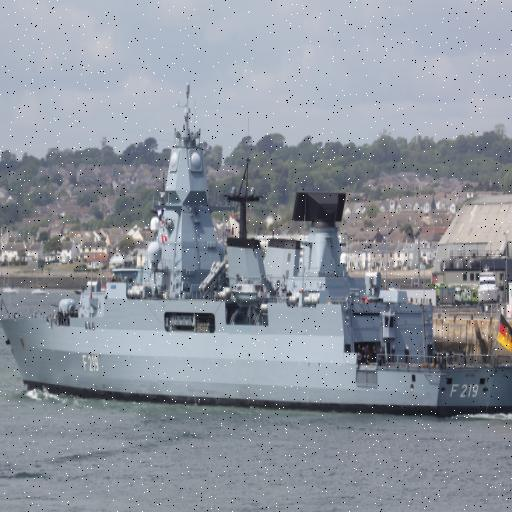Fragata: (1, 79, 512, 422)
